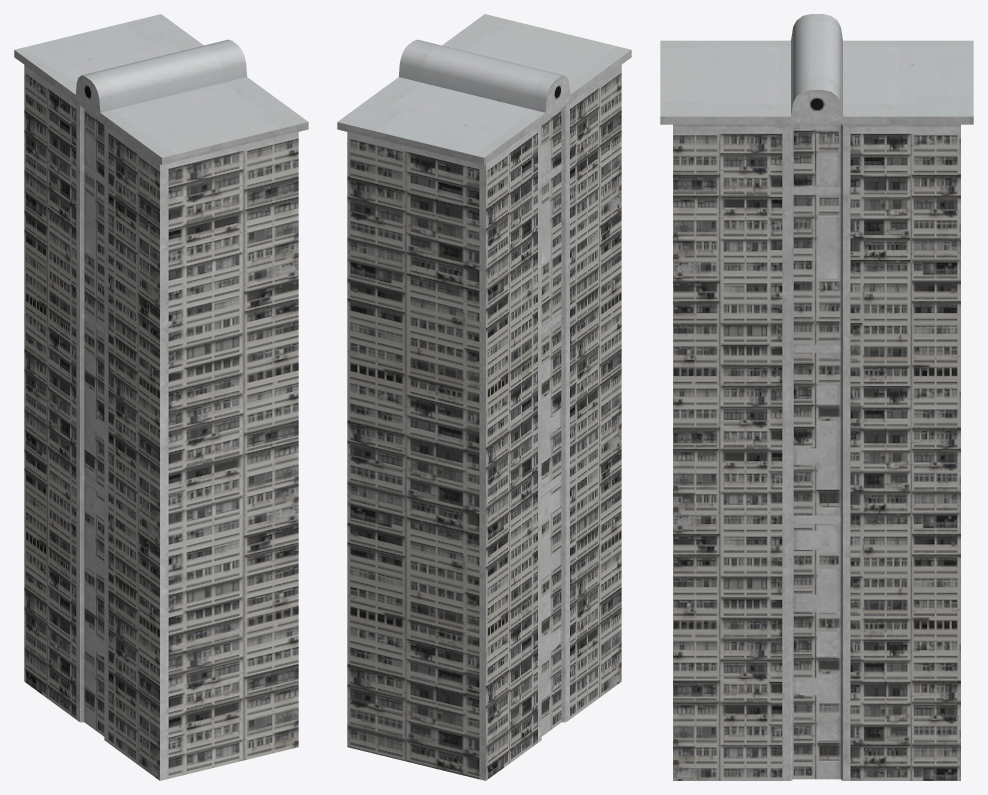
File: MB_Skyscraper_03.fbx
The picture shows the model from 3 angles, left to right: view 1: azimuth 30°, elevation 25°; view 2: azimuth 150°, elevation 25°; view 3: azimuth 270°, elevation 25°; orthographic projection. The views are drawn at different scales.
Parts seen in each view (by area): view 1: MB_Skyscraper_03; view 2: MB_Skyscraper_03; view 3: MB_Skyscraper_03.
Boxes of the visible parts, x1,y1,x2,y2 form: MB_Skyscraper_03: [14, 14, 308, 780]; MB_Skyscraper_03: [337, 14, 631, 780]; MB_Skyscraper_03: [660, 14, 973, 780].
Size of the model in its own units: 883 by 3755 by 1537.
